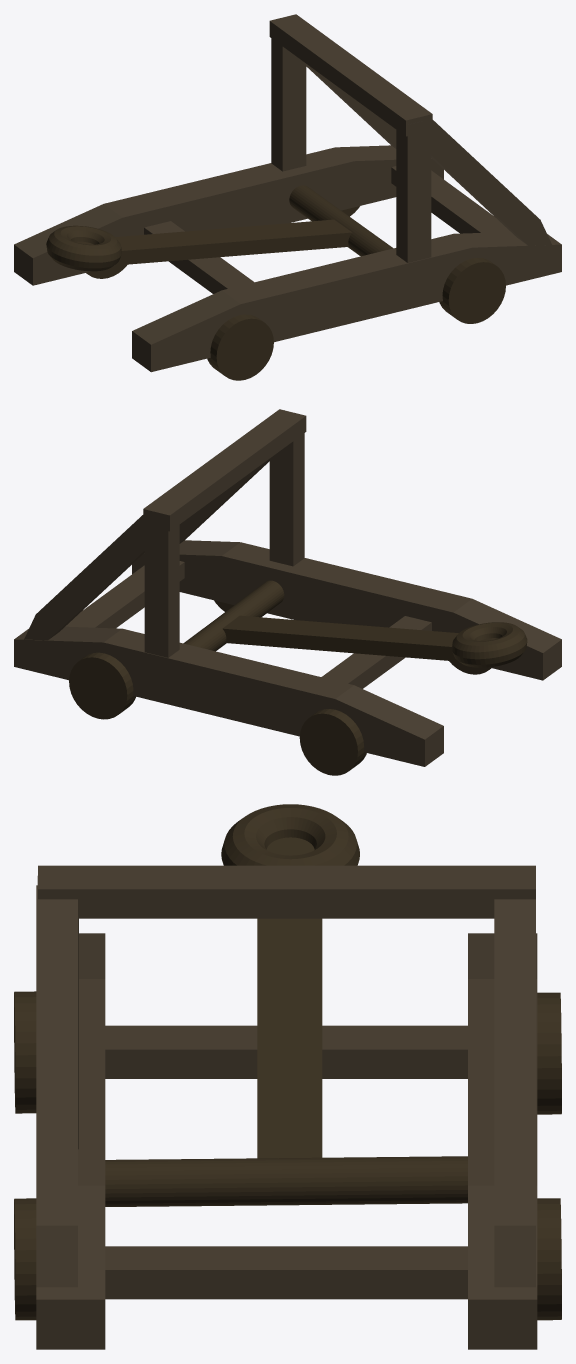
The model's file is Catapult.glb.
The picture shows the model from 3 angles, top to bottom: view 1: azimuth 30°, elevation 25°; view 2: azimuth 150°, elevation 25°; view 3: azimuth 270°, elevation 25°; orthographic projection. The views are drawn at different scales.
Visible parts, largest first — view 1: Body, Arm, Wheels; view 2: Body, Arm, Wheels; view 3: Body, Arm, Wheels.
Part boxes in pixels (left/top/right/bottom): Body: left=14, top=14, right=561, bottom=372; Arm: left=46, top=185, right=393, bottom=271; Wheels: left=86, top=206, right=505, bottom=380; Body: left=14, top=409, right=561, bottom=766; Arm: left=183, top=580, right=527, bottom=667; Wheels: left=69, top=600, right=491, bottom=775; Body: left=36, top=865, right=537, bottom=1349; Arm: left=105, top=804, right=467, bottom=1206; Wheels: left=14, top=991, right=561, bottom=1320.
Bounding box in the file's own units: 10.76 × 4.99 × 6.34.
